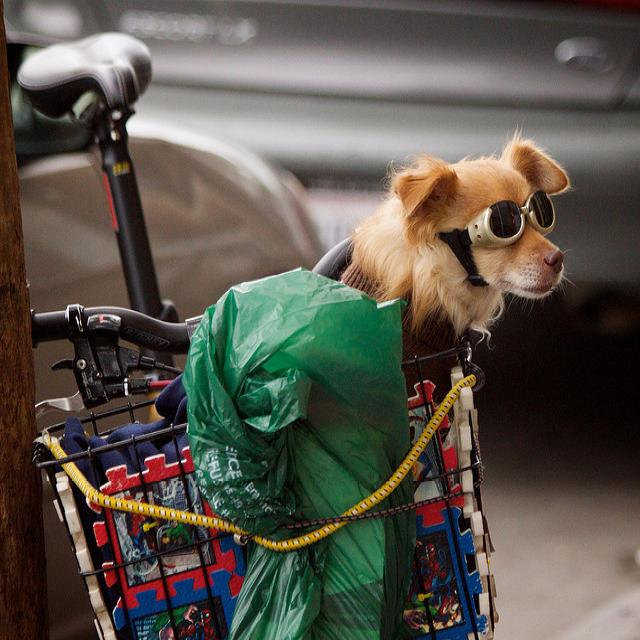Vehicle: (3, 0, 640, 297)
